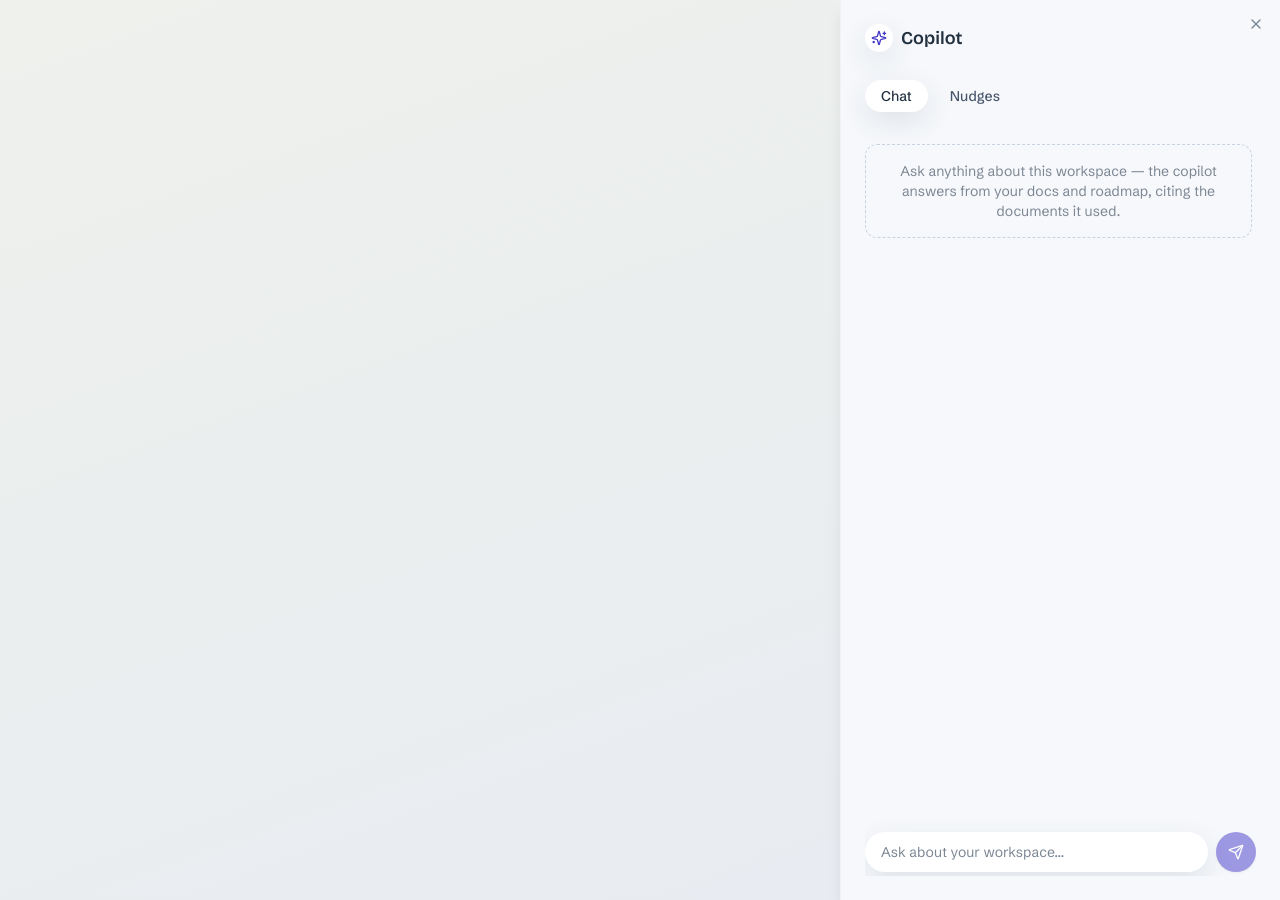
CopilotPanel › streams a chat answer and links doc-title citations
Type "How much do we sample?" into the field named "Ask the copilot" at [1036, 852], box [865,832,1208,872]
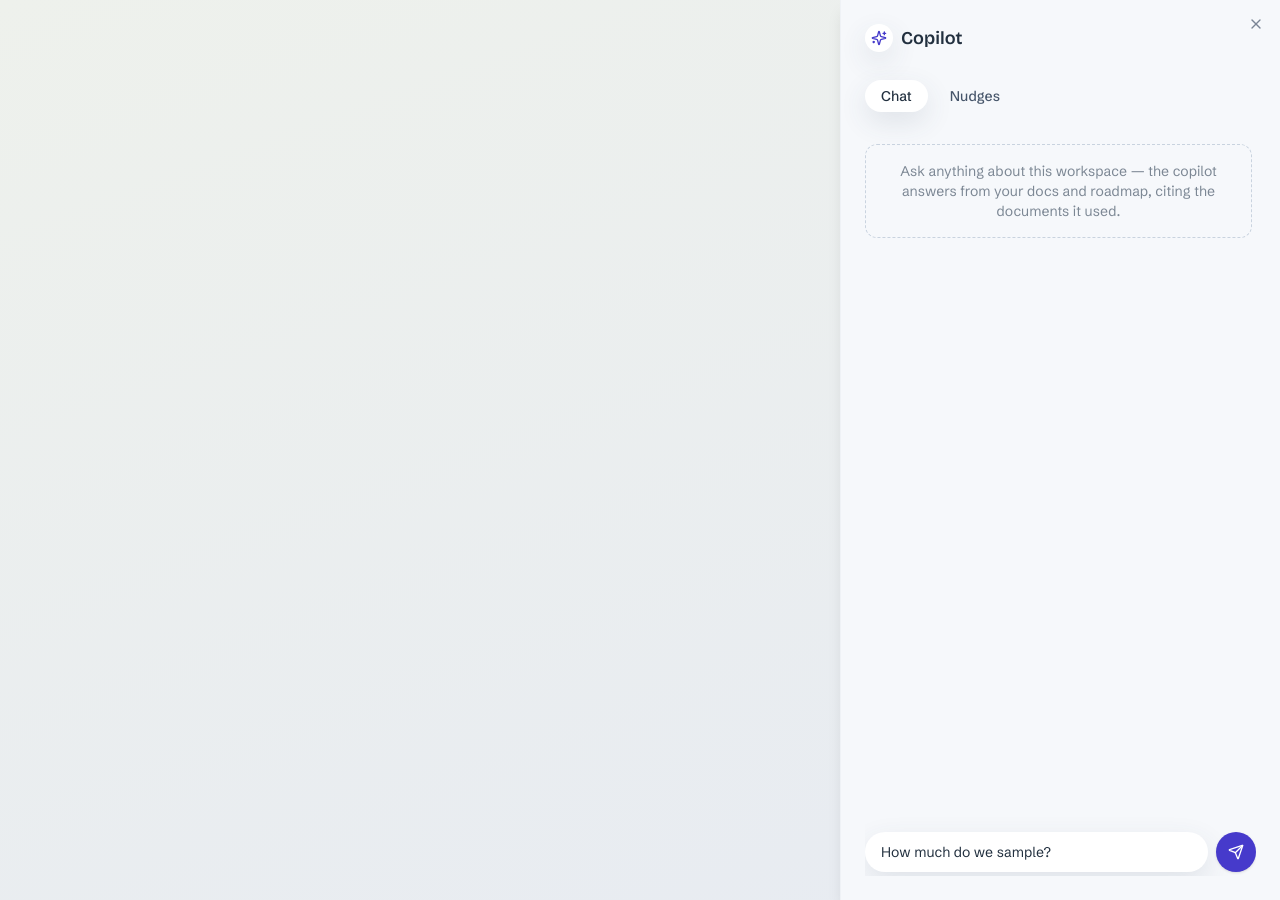
Click the button named "Send" at [1236, 852], box [1216,832,1256,872]
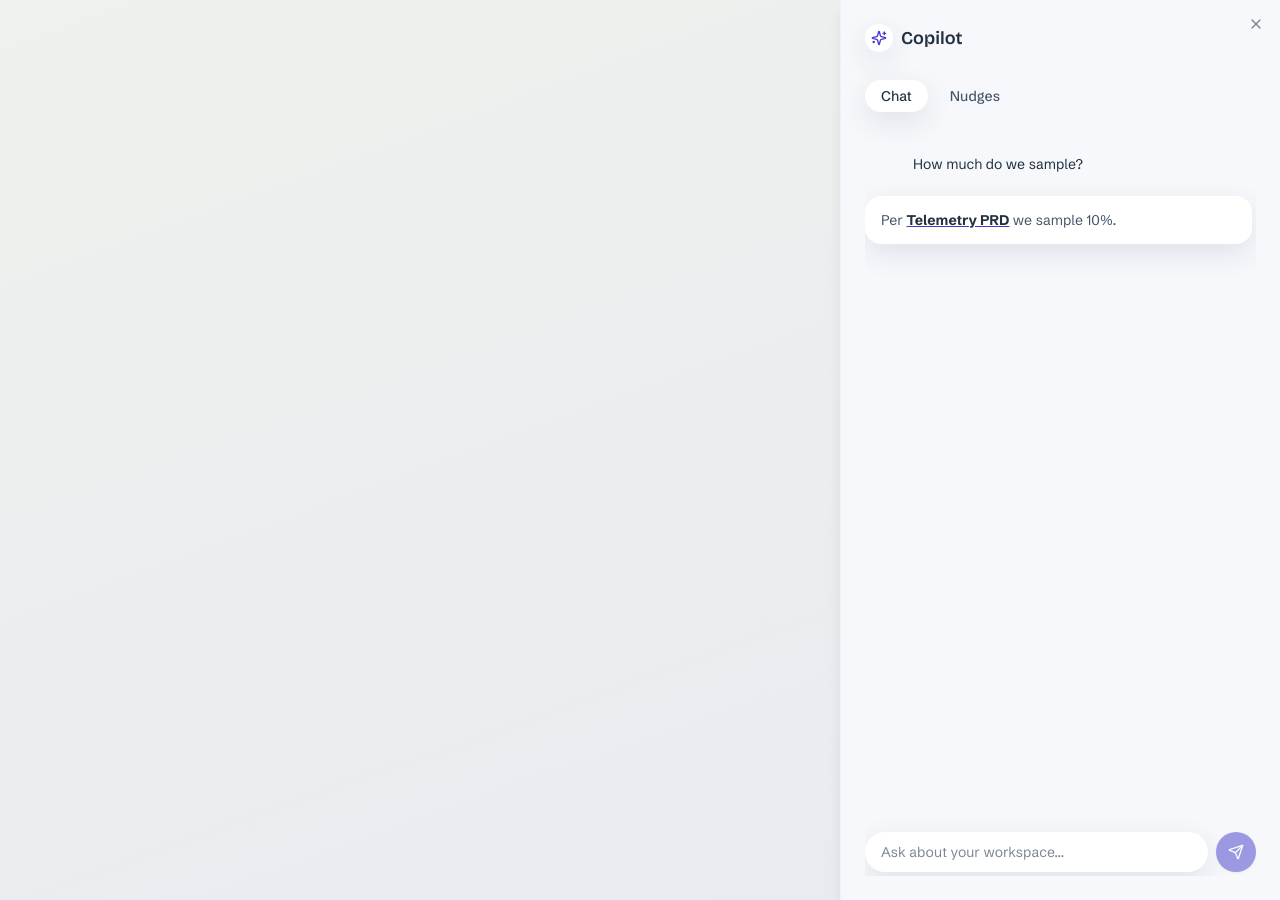
expect the text "How much do we sample?" is shown: met, box [913,155,1083,173]
